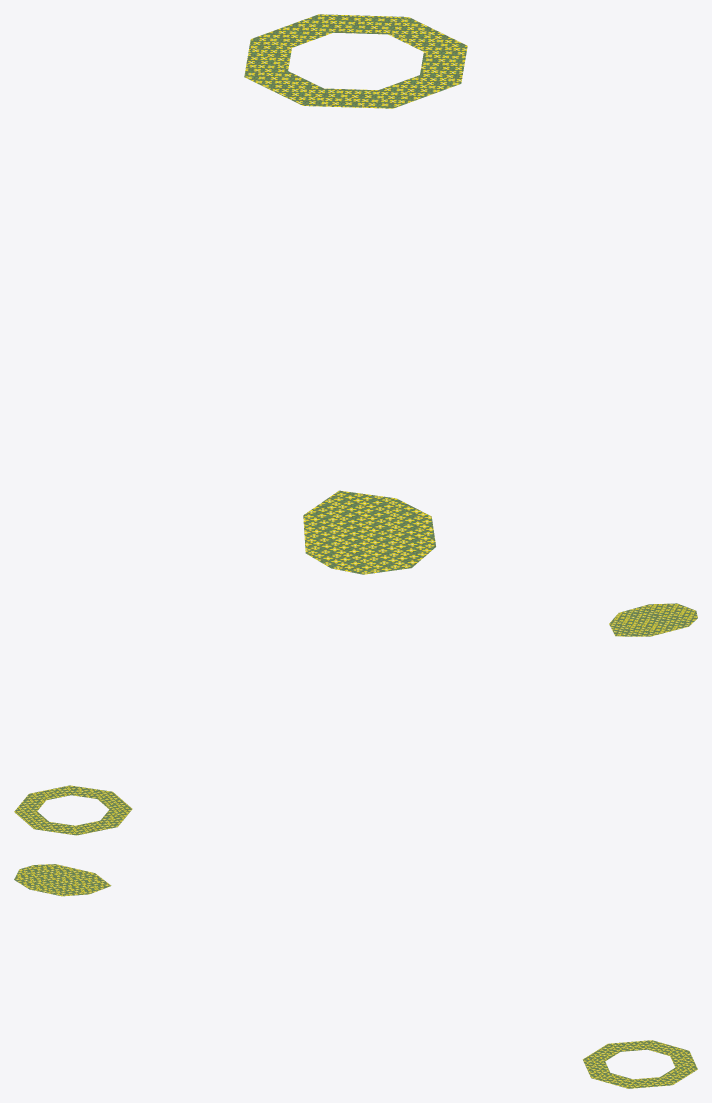
File: kd_stage_136599_18_9_bounded.glb
The picture shows the model from 3 angles, top to bottom: view 1: azimuth 30°, elevation 25°; view 2: azimuth 150°, elevation 25°; view 3: azimuth 270°, elevation 25°; orthographic projection. The views are drawn at different scales.
Visible parts, largest first — view 1: kd_stage_136599_18_9_bounded; view 2: kd_stage_136599_18_9_bounded; view 3: kd_stage_136599_18_9_bounded.
Part boxes in pixels (<box>): kd_stage_136599_18_9_bounded: <box>244,14,467,574</box>; kd_stage_136599_18_9_bounded: <box>14,603,697,835</box>; kd_stage_136599_18_9_bounded: <box>14,864,697,1088</box>.
Bounding box in the file's own units: 10.79 × 1.28 × 17.39.
Materials: 1 (1 with a texture image).
